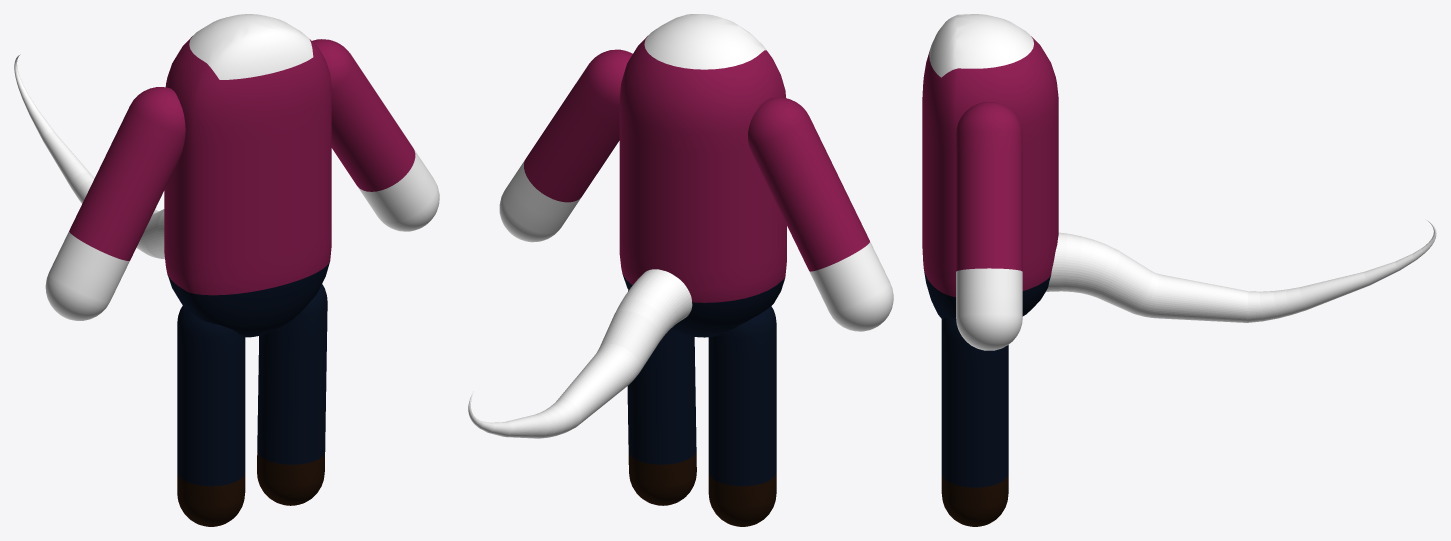
Rendered from vatril_base.fbx.
3 renders of one model, left to right at view 1: azimuth 30°, elevation 25°; view 2: azimuth 150°, elevation 25°; view 3: azimuth 270°, elevation 25°, orthographic.
Visible parts, largest first — view 1: body, larm, lleg, rleg, rarm, tail; view 2: body, larm, lleg, rarm, tail, rleg; view 3: body, rarm, tail, rleg.
Boxes of the visible parts, x1,y1,x2,y2 form: body: (164,14,331,337); larm: (45,87,185,320); lleg: (177,306,245,526); rleg: (257,284,327,505); rarm: (312,39,439,231); tail: (14,54,164,258); body: (619,14,786,337); larm: (748,97,893,331); lleg: (708,306,776,526); rarm: (499,49,632,242); tail: (468,269,692,438); rleg: (627,290,696,505); body: (922,14,1058,319); rarm: (956,102,1022,350); tail: (1046,220,1436,322); rleg: (941,317,1008,526).
Size of the model in its own units: 262 by 320 by 308.
